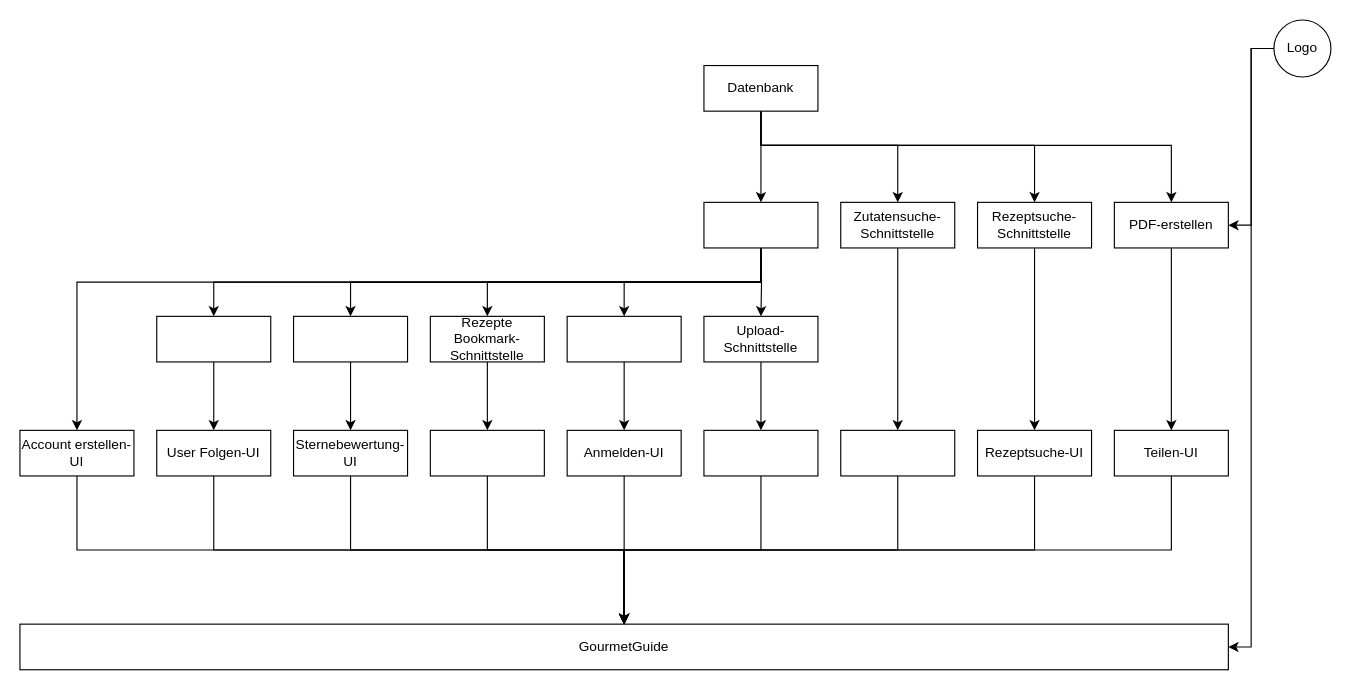
This 1351x690 diagram has some shape labels left out. The shapes that lost their labels are listed below. From the top down, each one's centre as x and y in pixels, then its label:
point (760, 224): Account erstellen-Schnittstelle
point (213, 338): Folgen- Schnittstelle
point (350, 338): Bewertungs-Schnittstelle
point (623, 338): Anmelden-Schnittstelle
point (486, 452): Rezepte Bookmark-UI
point (760, 452): Upload-UI
point (897, 452): Zutatensuche-UI
